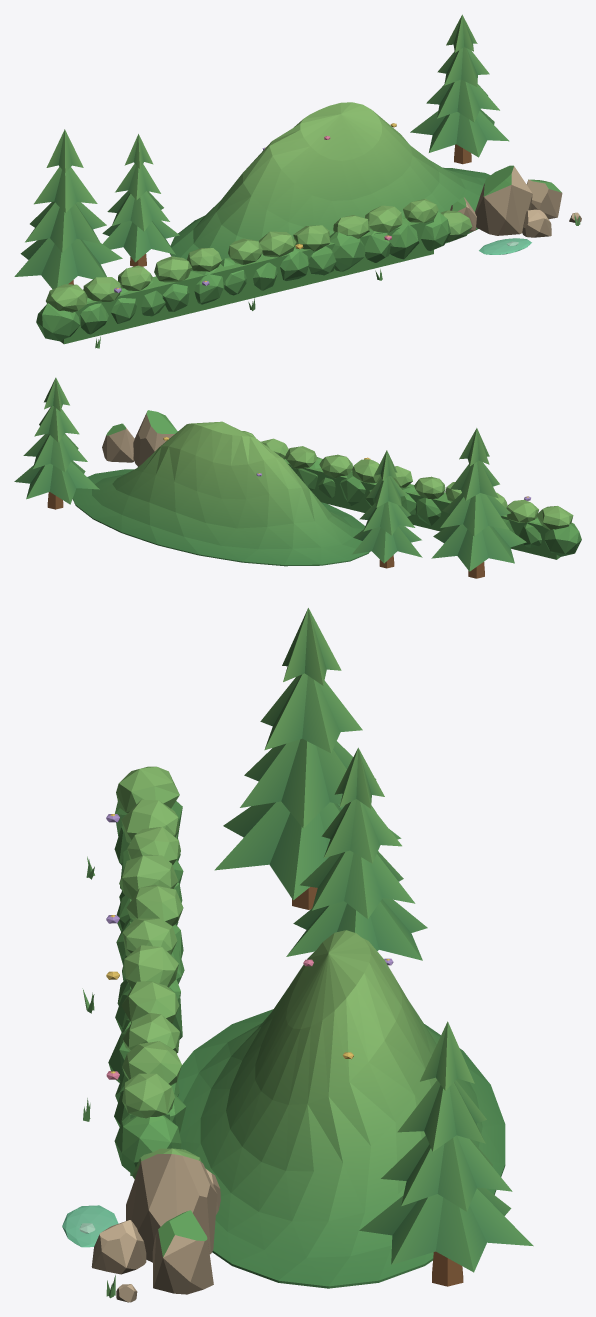
File: ranch_border_chunk_e.fbx
The picture shows the model from 3 angles, top to bottom: view 1: azimuth 30°, elevation 25°; view 2: azimuth 150°, elevation 25°; view 3: azimuth 270°, elevation 25°; orthographic projection. The views are drawn at different scales.
Parts seen in each view (by area): view 1: ranch_border_chunk_e; view 2: ranch_border_chunk_e; view 3: ranch_border_chunk_e.
Part boxes in pixels (bbox=[...]): ranch_border_chunk_e: bbox=[14, 14, 581, 348]; ranch_border_chunk_e: bbox=[14, 377, 581, 578]; ranch_border_chunk_e: bbox=[62, 608, 533, 1302].
Bounding box in the file's own units: 56.4 × 16.45 × 23.8.
